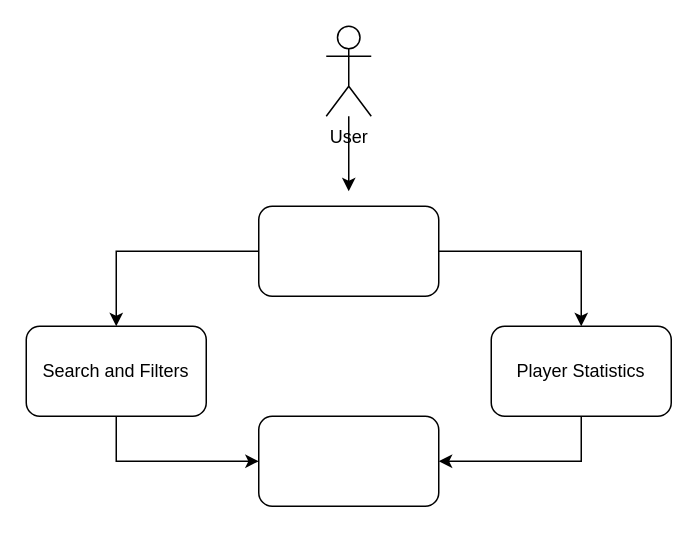
Some shapes in this 698 by 533 pixel diagram are drawn without their labels. The shapes that lost their labels are listed below. From the top down, each one's centre as x and y in pixels, then its label:
At (348,250): "Football Player Dashboard (React UI)".
At (348,460): "Football Dataset (JSON)".
